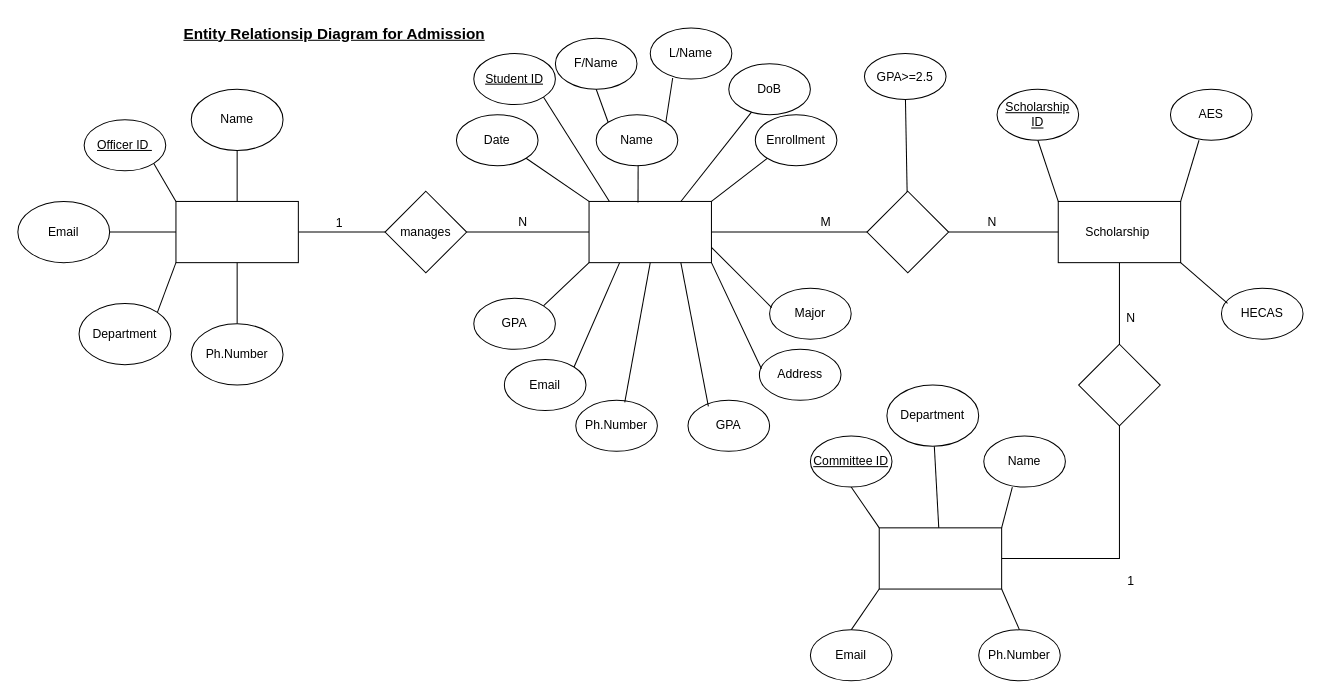
Some shapes in this 1321 by 699 pixel diagram are drawn without their labels. The centre of each missing label's shape, as x and y in pixels:
Admission officer: point (236, 231)
eligible for: point (907, 231)
Reviews: point (1119, 384)
Scholarship Committee: point (940, 558)
Students: point (649, 231)
